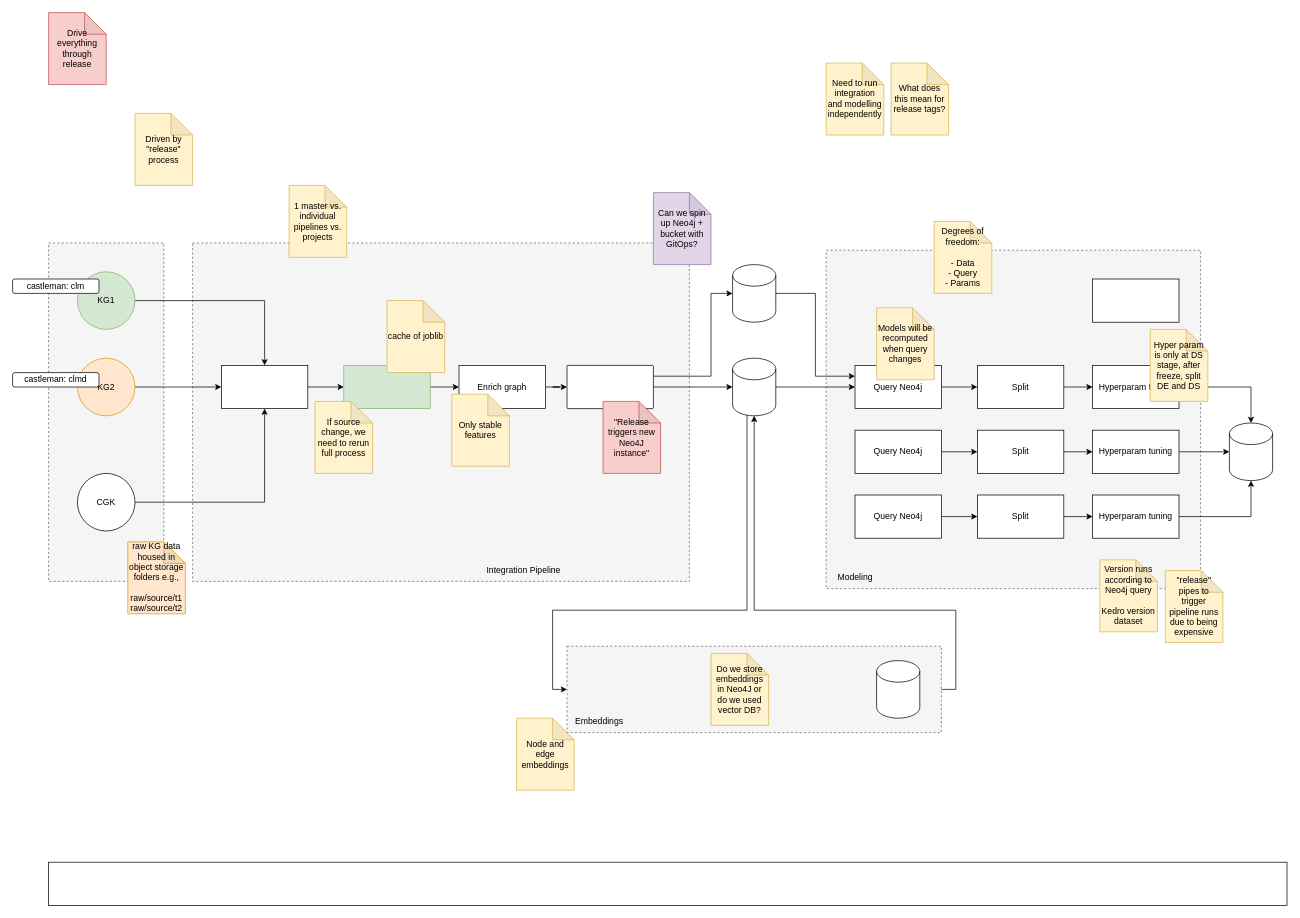
Some shapes in this 1300 by 918 pixel diagram are drawn without their labels. Each missing label, with the box of its shape:
Argo/Airflow (Platform): (48, 861, 1287, 905)
BigQuery: (732, 264, 776, 322)
Entity resolution: (343, 365, 430, 409)
Exp tracking: (1092, 278, 1179, 322)
Harmonize structure: (221, 365, 308, 409)
Model garden: (1229, 422, 1273, 481)
Neo4j: (732, 357, 776, 416)
Vector: (876, 660, 920, 718)
Write: (566, 365, 653, 409)
